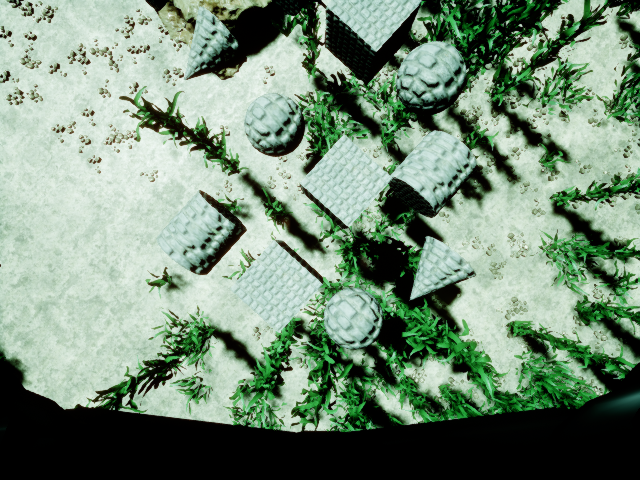Cone: (170, 6, 250, 83), (397, 236, 479, 306)
Cube: (222, 237, 342, 336), (296, 130, 394, 233)
Cylinder: (382, 128, 496, 220), (150, 187, 258, 280)
Sphere: (386, 38, 470, 117), (314, 284, 389, 356), (235, 88, 304, 159)
